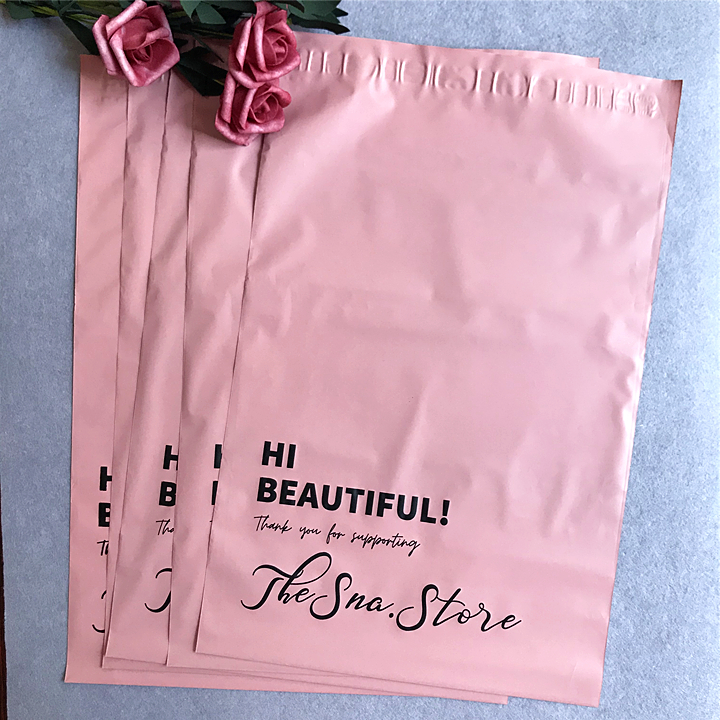塑料袋: (66, 34, 679, 704)
